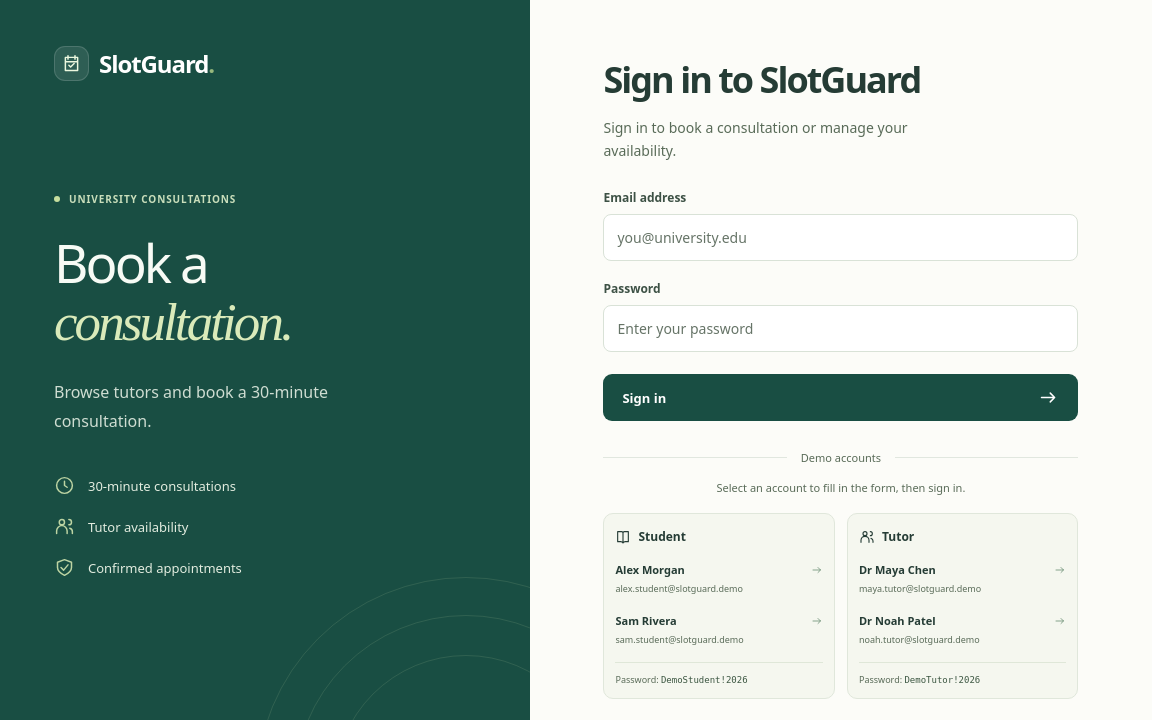
Test: login and session lifecycle › handles invalid input and incorrect credentials
The width and height of the screenshot is (1152, 720).
Click the button "Sign in" at (644, 398), box 604,374 -> 1078,421
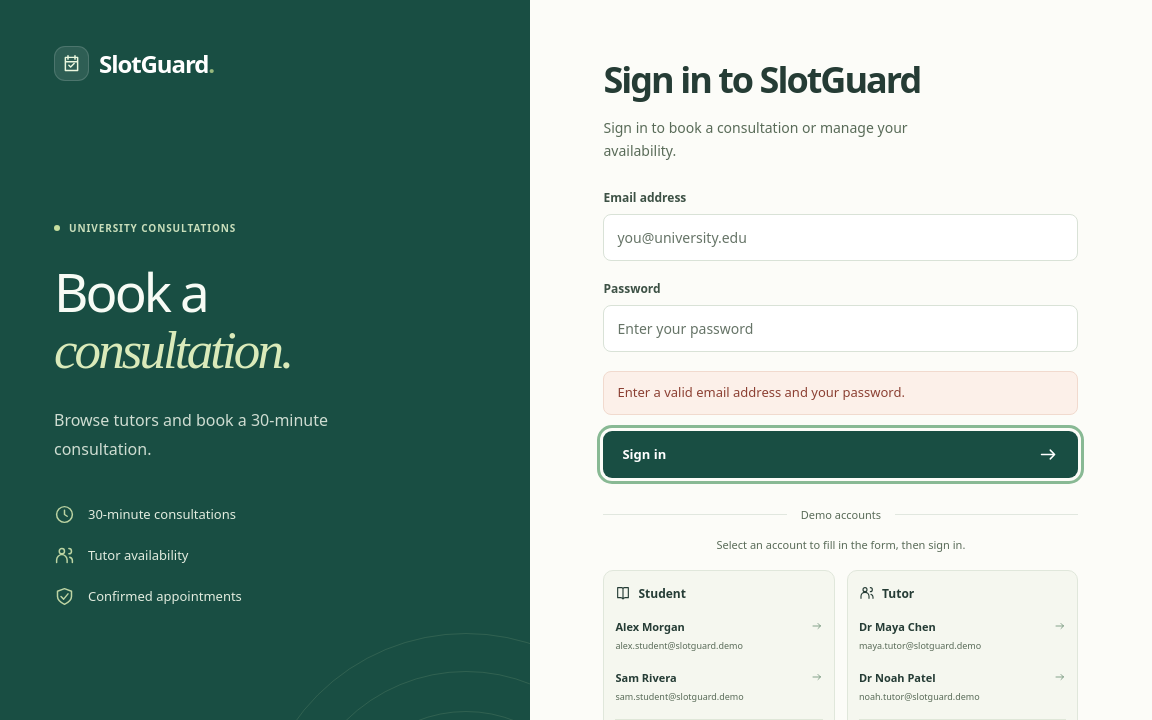
Expected: the message shows "Enter a valid email", 618,383 -> 905,401
Type "alex.student@slotguard.demo" into the field labelled "Email address" at (841, 238), box 604,214 -> 1078,261
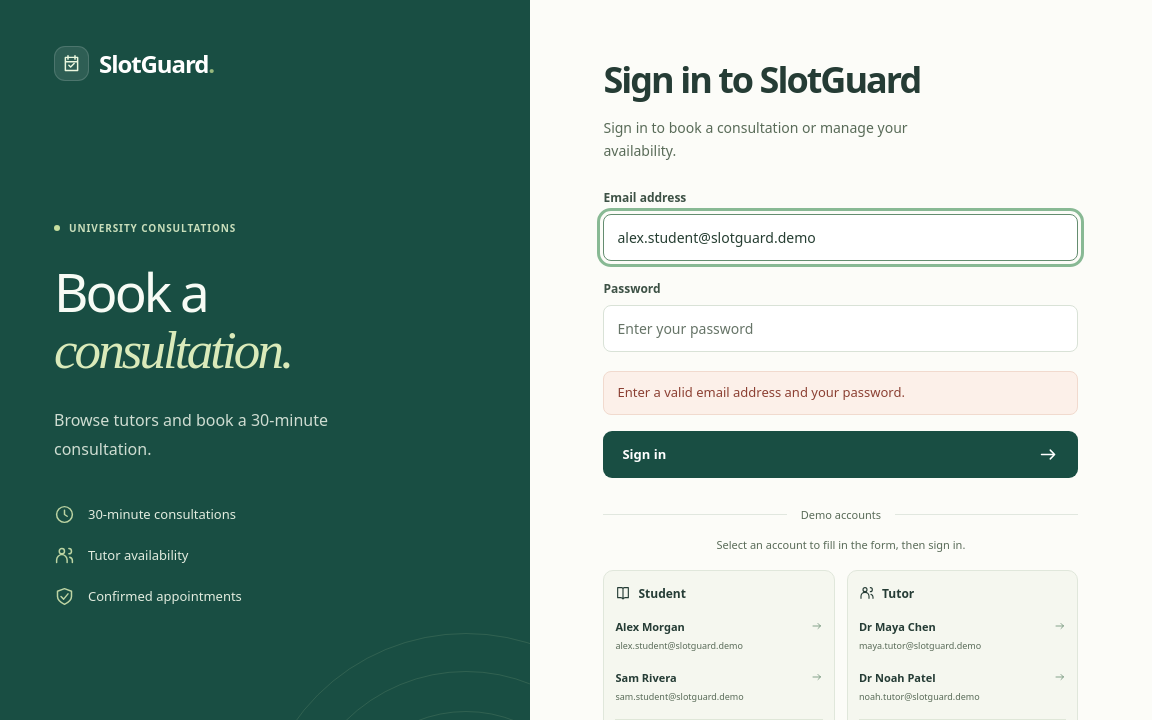
Type "wrong" into the password field labelled "Password" at (841, 329), box 604,305 -> 1078,352
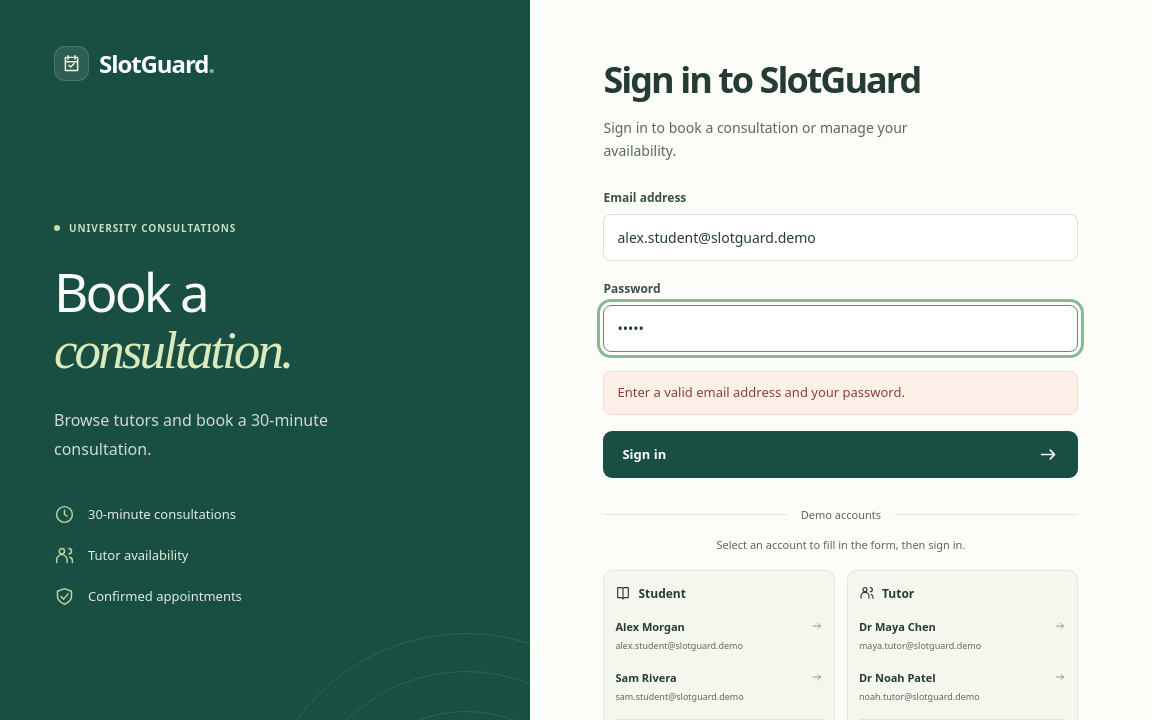
Click the button "Sign in" at (644, 454), box 604,431 -> 1078,478
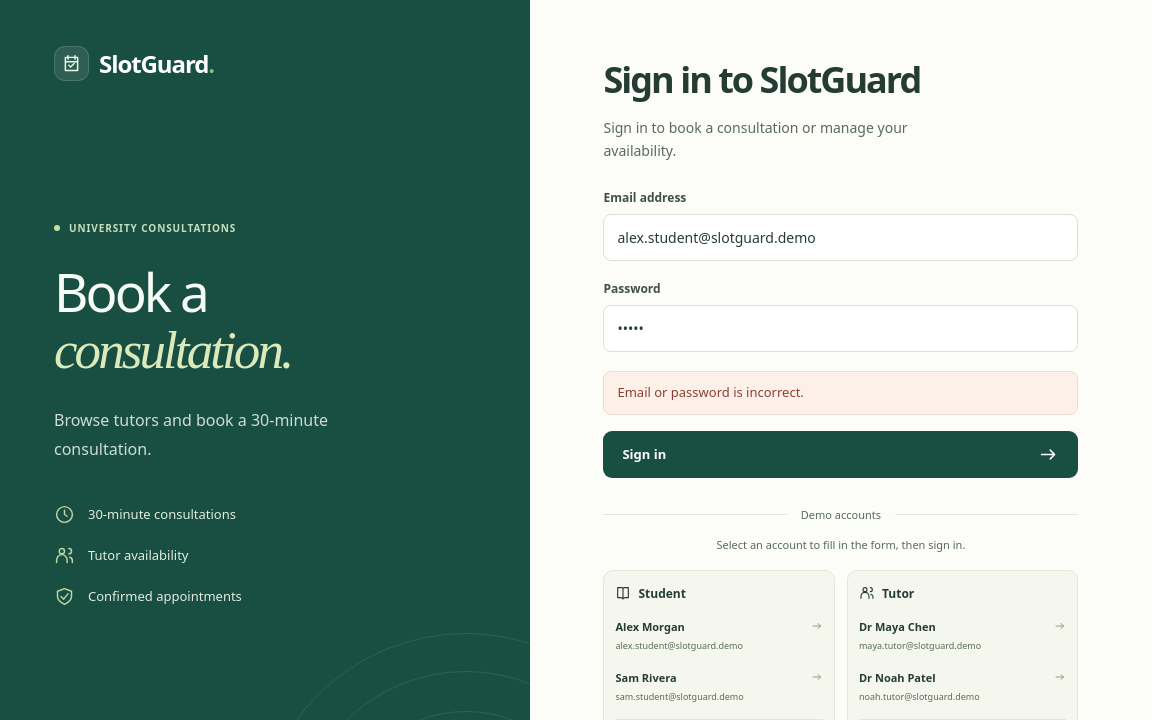
Expected: the message shows "Email or password is incorrect", 618,383 -> 804,401
